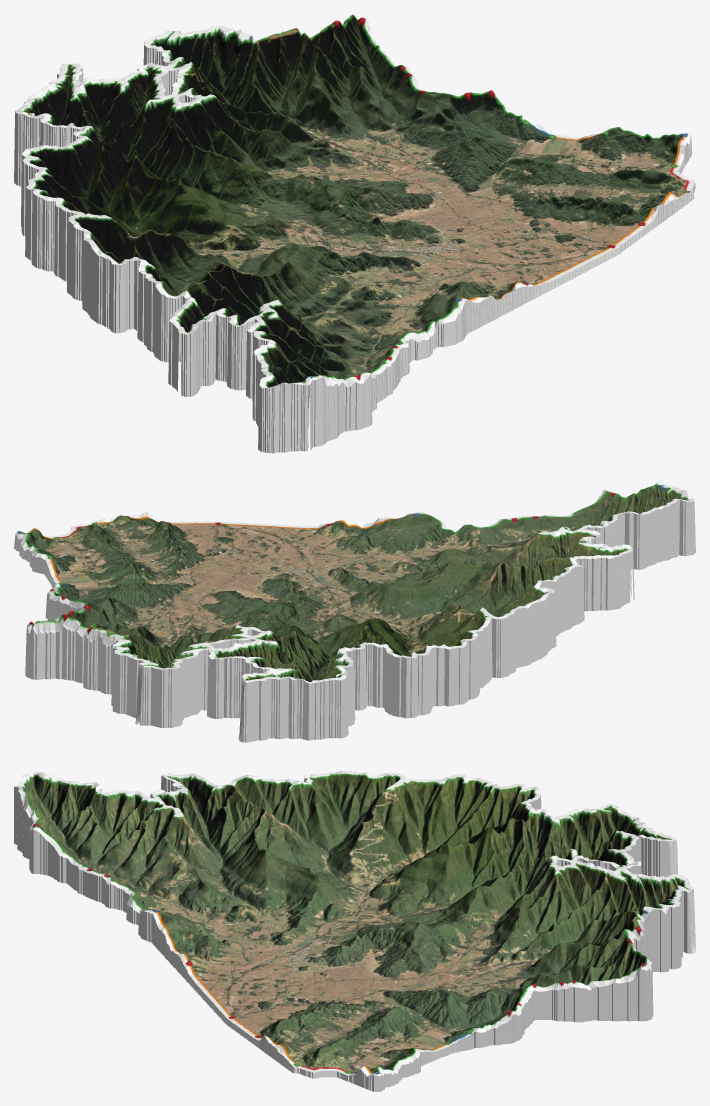
3 renders of one model, top to bottom at view 1: azimuth 30°, elevation 25°; view 2: azimuth 150°, elevation 25°; view 3: azimuth 270°, elevation 25°, orthographic. The views are drawn at different scales.
Bounding box in the file's own units: 1 × 0.1138 × 1.08.
Materials: 1 (1 with a texture image).
